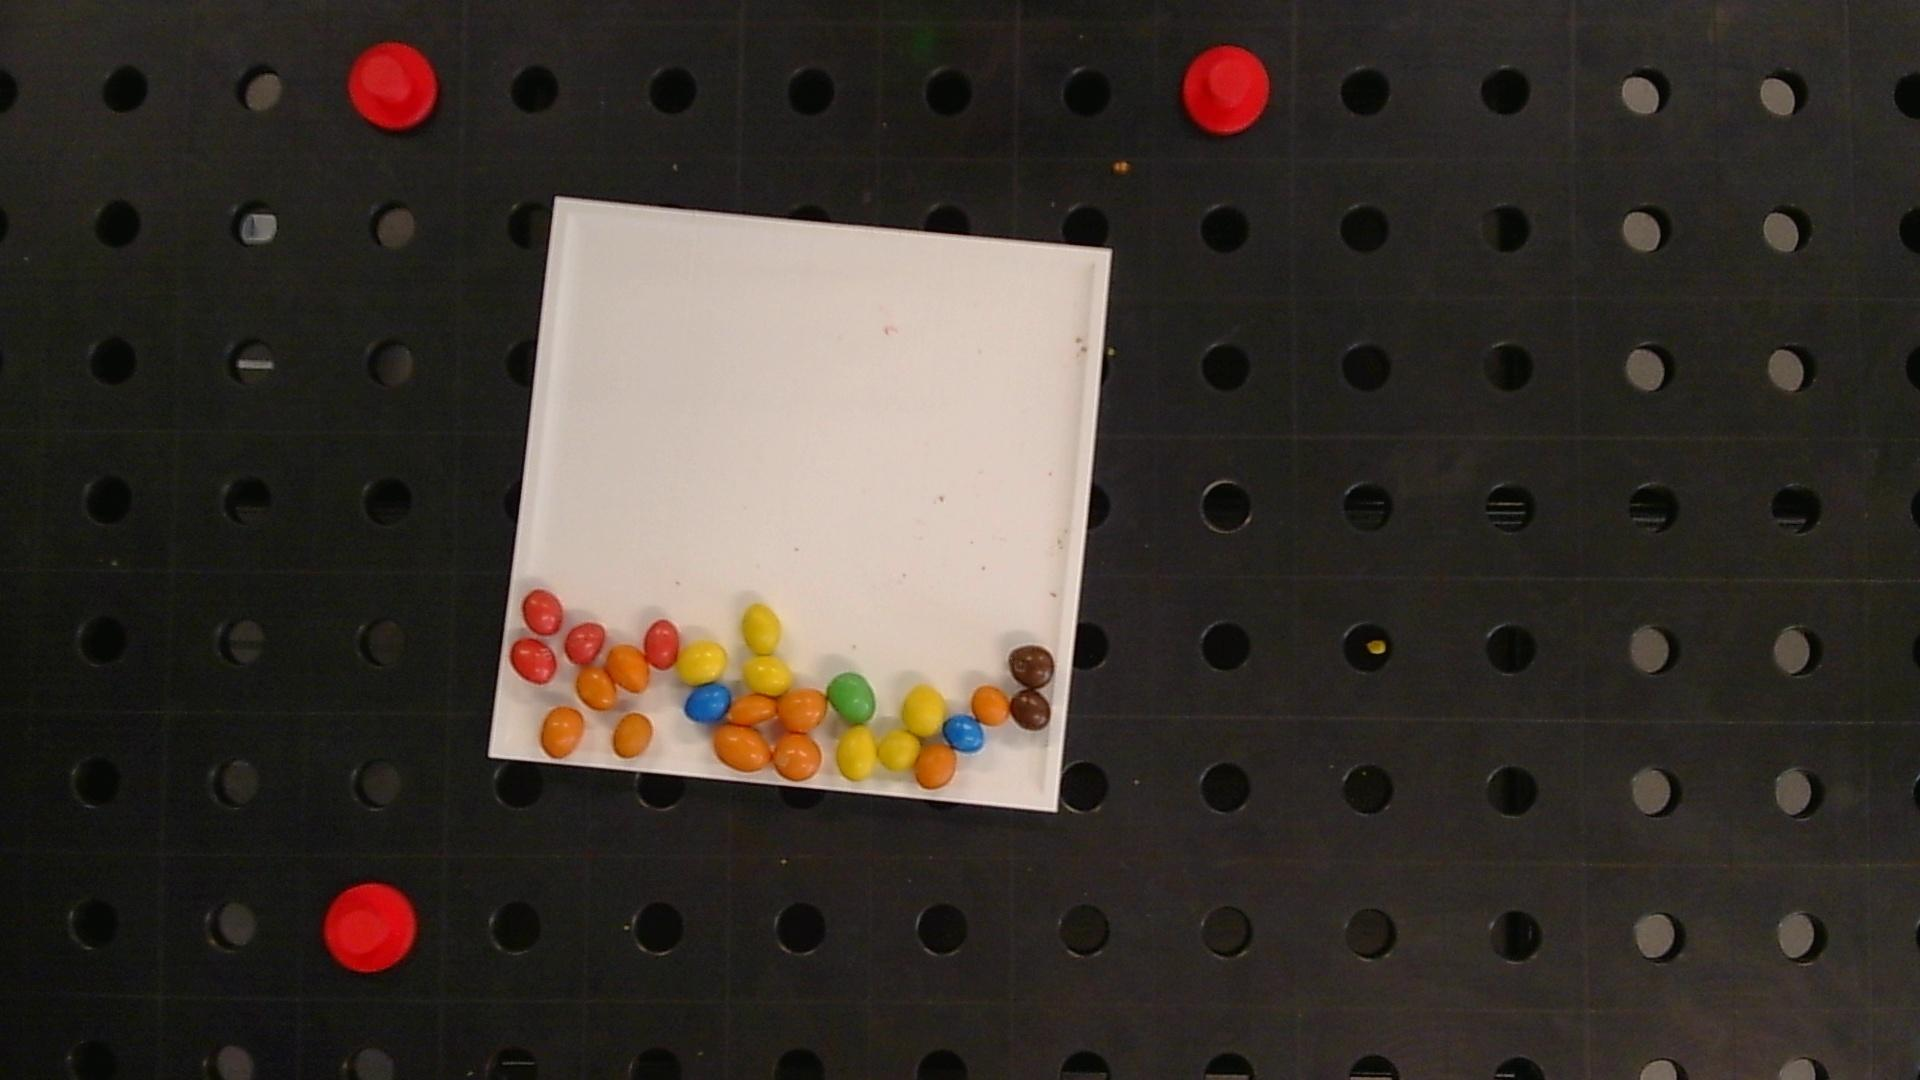blue: (683, 683, 732, 721), (943, 715, 985, 752)
brown: (1009, 644, 1055, 687), (1009, 690, 1051, 729)
green: (828, 673, 877, 724)
orange: (713, 725, 771, 771), (771, 733, 823, 781), (541, 707, 584, 757), (778, 688, 827, 731), (607, 645, 649, 692), (915, 745, 956, 789), (613, 713, 653, 757), (576, 667, 615, 709), (728, 695, 778, 725), (972, 686, 1010, 725)
red: (510, 638, 556, 684), (522, 589, 563, 634), (644, 618, 679, 669), (564, 621, 605, 665)
yellow: (836, 727, 878, 781), (902, 686, 945, 736), (678, 641, 727, 684), (742, 604, 781, 654), (745, 655, 790, 695), (878, 729, 920, 770)
